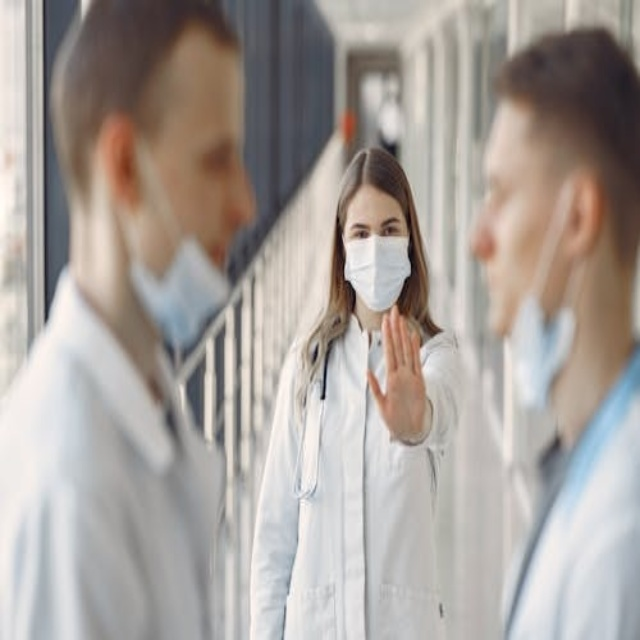Sin_gafas: (175, 125, 251, 185), (476, 158, 518, 215), (342, 209, 406, 246)
Sin_guantes: (364, 304, 429, 444)
Sin_mascara: (187, 211, 238, 281), (477, 250, 516, 306)
